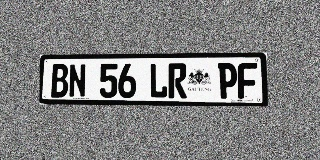5: (100, 64, 118, 98)
6: (118, 63, 136, 98)
B: (51, 64, 68, 98)
F: (238, 63, 257, 99)
L: (149, 63, 168, 98)
N: (69, 64, 86, 98)
P: (218, 63, 237, 99)
R: (168, 63, 187, 98)
